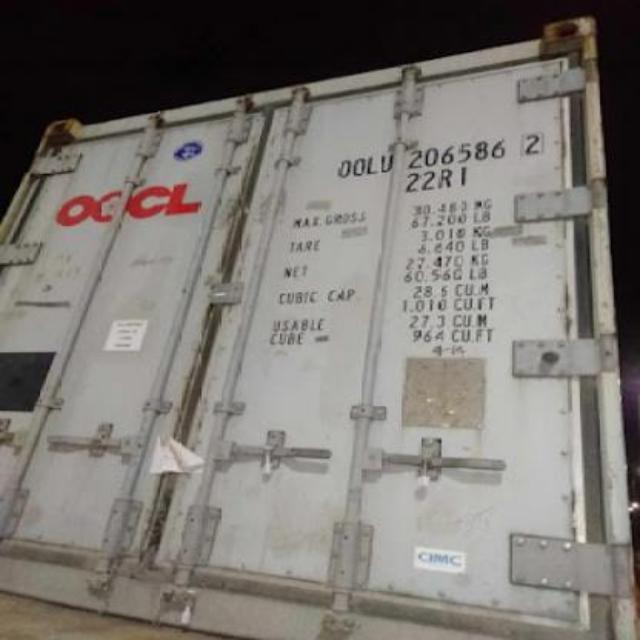0: (422, 134, 438, 170)
2: (520, 127, 544, 157), (404, 139, 420, 171)
5: (456, 130, 472, 166)
6: (490, 123, 508, 161), (440, 132, 458, 168)
8: (474, 129, 492, 165)
L: (366, 148, 379, 182)
O: (332, 150, 352, 182), (351, 152, 364, 182)
U: (378, 148, 396, 182)
